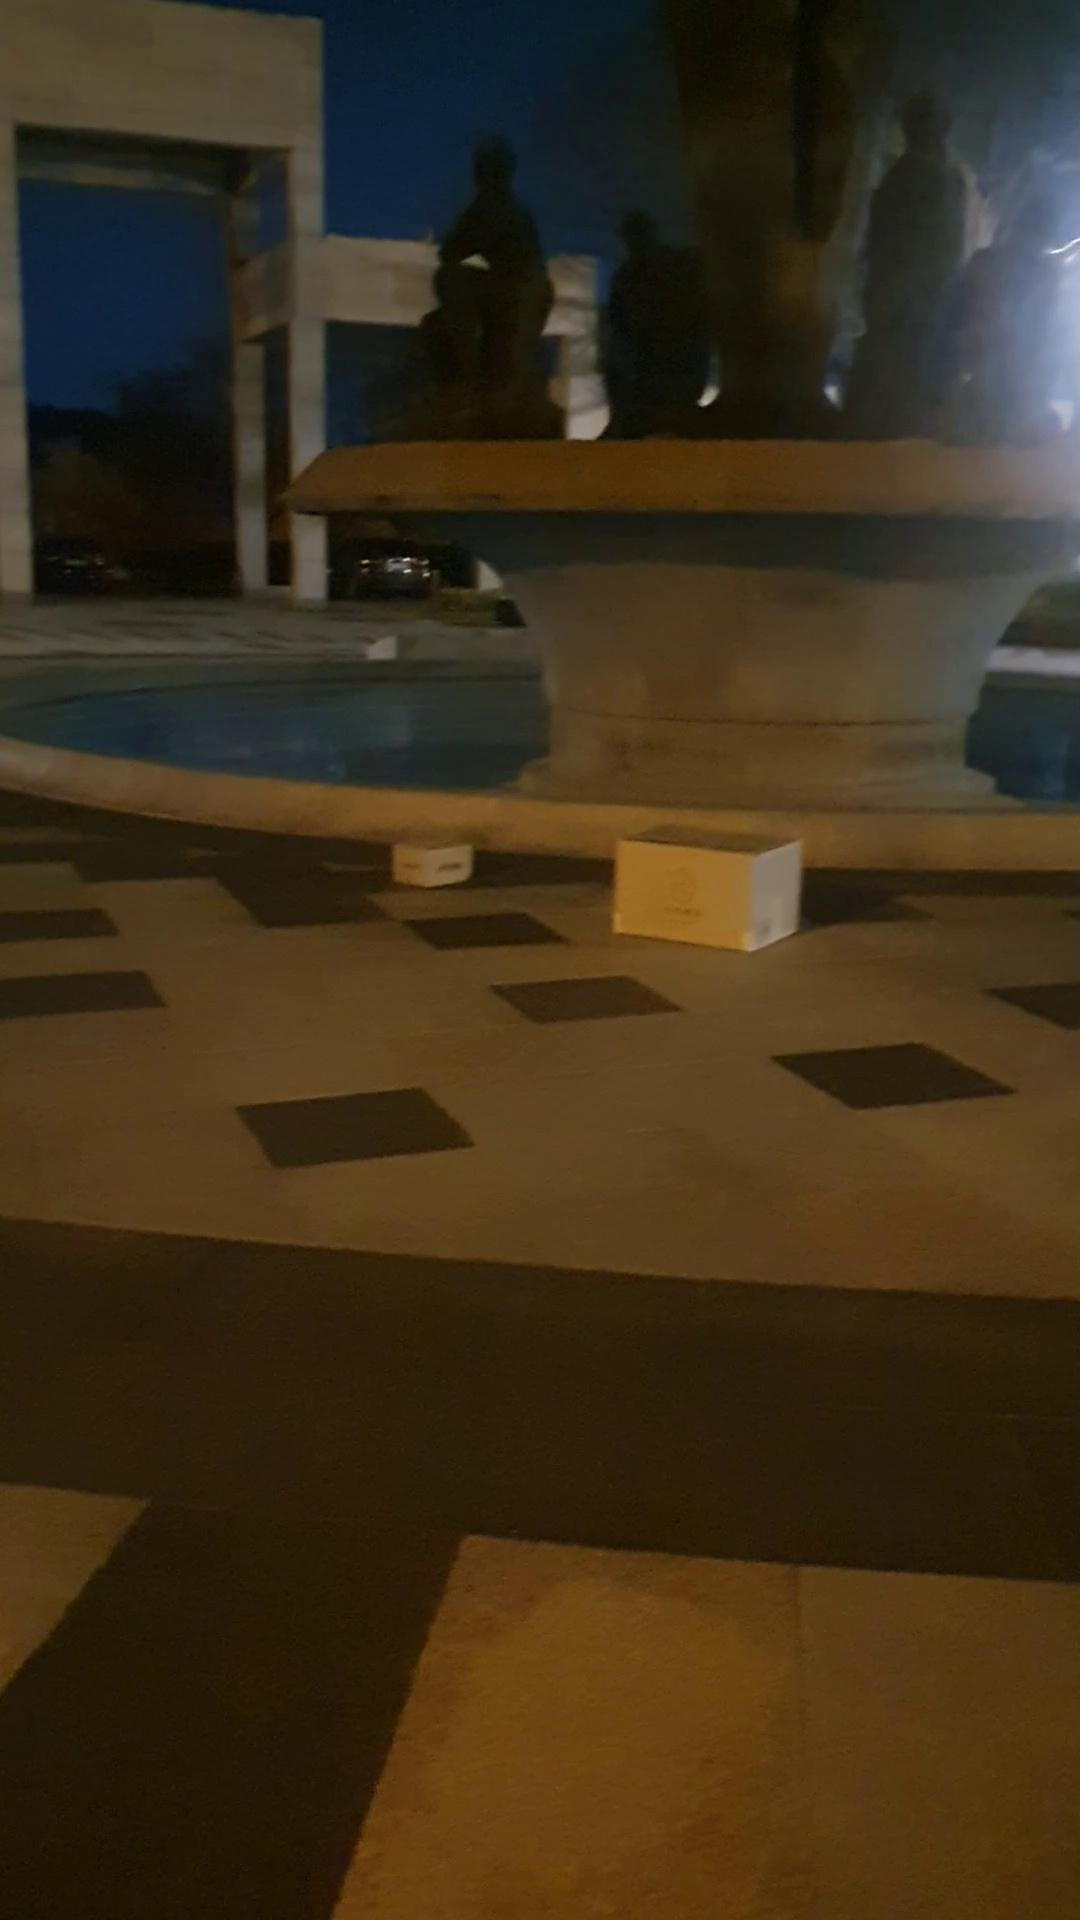Box: (593, 814, 814, 957), (386, 820, 475, 890)
